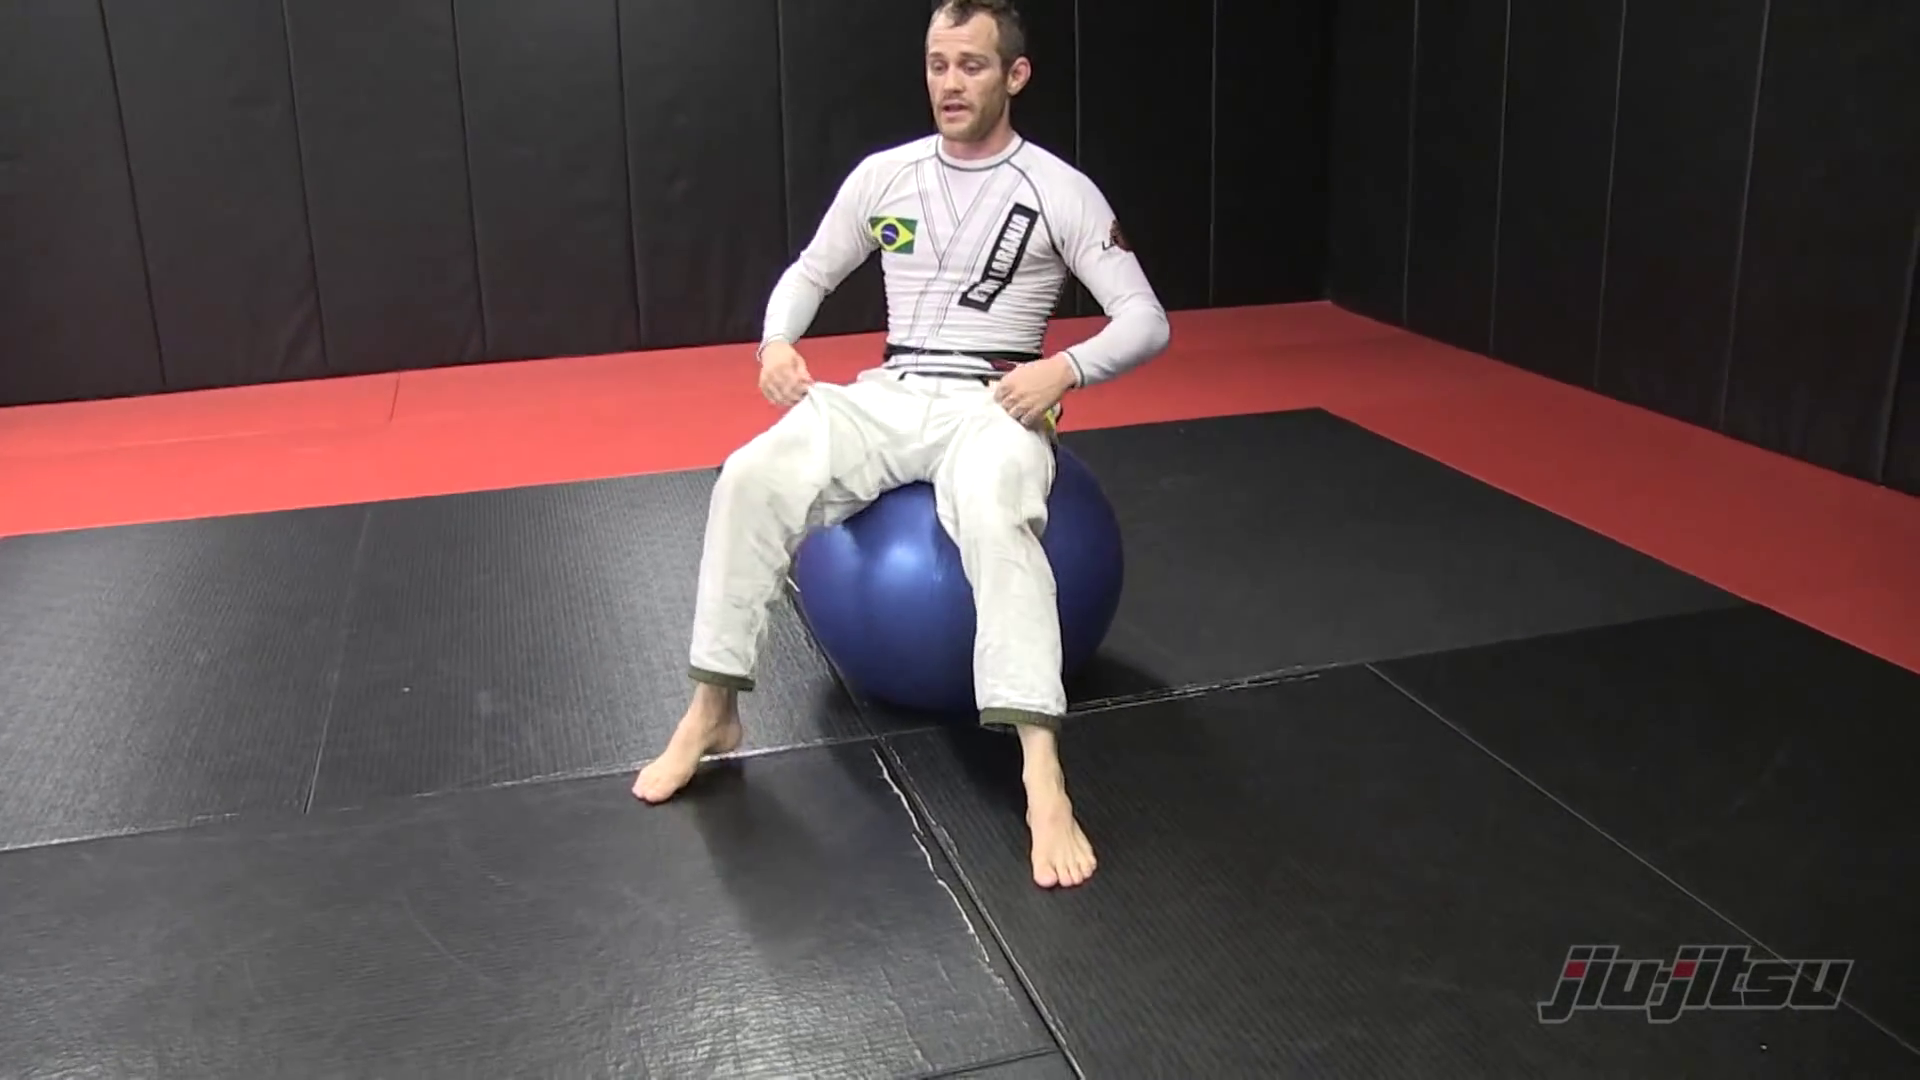yogaball: (767, 430, 1151, 732)
